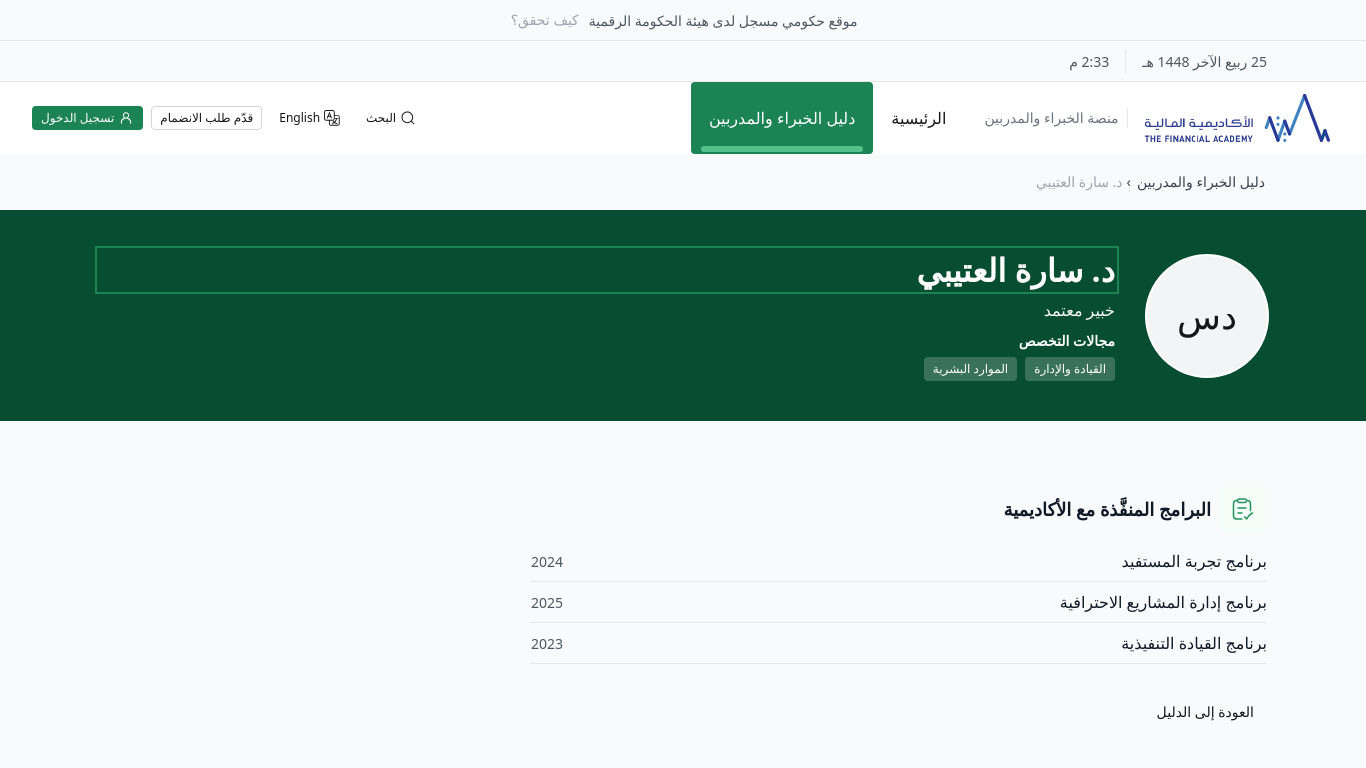
Scenario: EH-PUB-03 — Public Trainer Profile › switches language across the profile
Check: the heading "د. سارة العتيبي" is shown, box [916,248,1115,291]
What coordinates should you click on to do the following:
click the button "English"
I would click on:
 (310, 118)
Its box is [270,106,349,130].
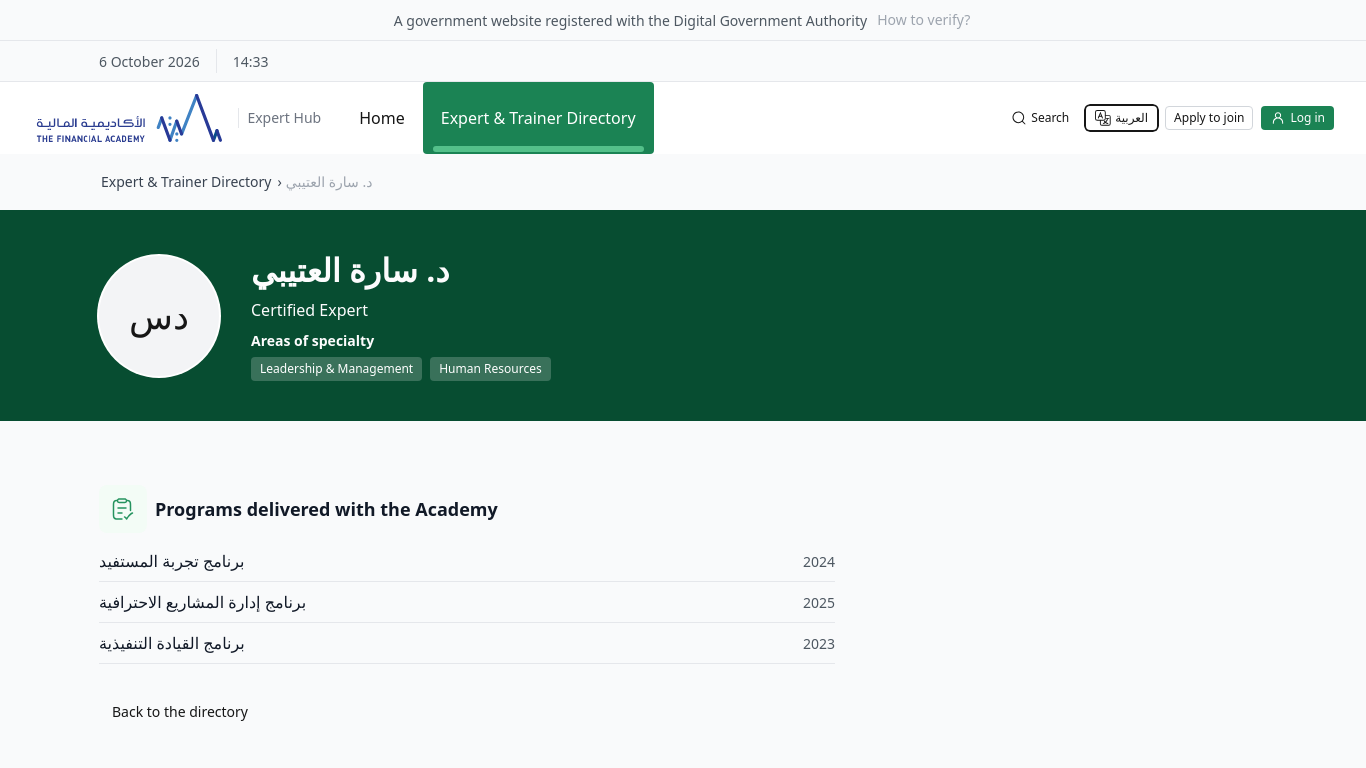
Check: the heading "Programs delivered with the Academy" is shown, box [155,496,498,522]
